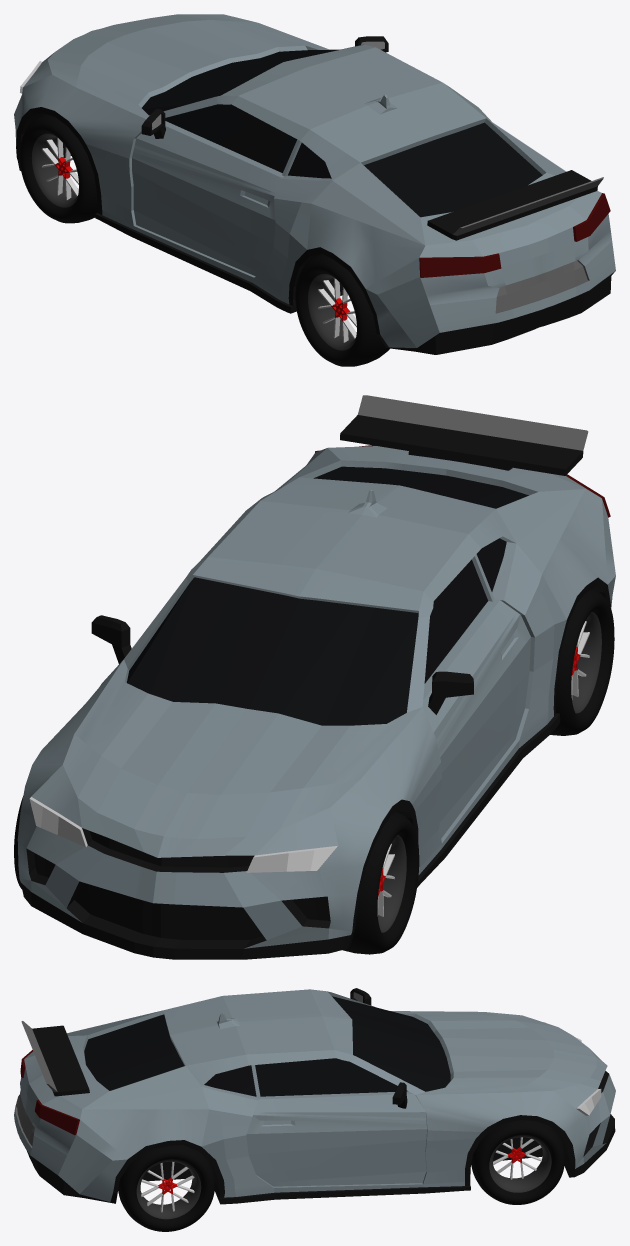
The model's file is PlayerCar.fbx.
The picture shows the model from 3 angles, top to bottom: view 1: azimuth 30°, elevation 25°; view 2: azimuth 150°, elevation 25°; view 3: azimuth 270°, elevation 25°; orthographic projection. The views are drawn at different scales.
Visible parts, largest first — view 1: polySurface59, polySurface43, polySurface65, Back, Tier_2, Tier, polySurface45, polySurface49, pPipe4_2, pPipe4, pCube871_2, pCube871 (+1 smaller); view 2: polySurface59, polySurface43, polySurface65, Back, Tier, Tier_2, polySurface41, pPipe4_2, pPipe4, Right_Side_Mirror, Left_Side_Mirror; view 3: polySurface59, polySurface43, polySurface65, Tier_3, Tier_1, Back, pPipe4_1, pPipe4_3, pCube871_3, polySurface49, pCube871_1, polySurface45 (+1 smaller).
Boxes of the visible parts, x1,y1,x2,y2 form: polySurface59: [14, 14, 615, 347]; polySurface43: [142, 49, 542, 217]; polySurface65: [16, 107, 615, 354]; Back: [427, 170, 603, 240]; Tier_2: [295, 253, 389, 366]; Tier: [19, 114, 97, 223]; polySurface45: [495, 260, 589, 313]; polySurface49: [419, 193, 610, 277]; pPipe4_2: [308, 274, 355, 350]; pPipe4: [31, 133, 77, 207]; pCube871_2: [318, 278, 356, 342]; pCube871: [41, 137, 78, 200]; polySurface59: [17, 446, 615, 948]; polySurface43: [127, 466, 528, 725]; polySurface65: [20, 577, 610, 959]; Back: [340, 395, 588, 475]; Tier: [342, 811, 419, 954]; Tier_2: [550, 589, 614, 735]; polySurface41: [29, 797, 337, 872]; pPipe4_2: [572, 612, 601, 713]; pPipe4: [378, 835, 406, 932]; Right_Side_Mirror: [428, 671, 473, 714]; Left_Side_Mirror: [91, 615, 131, 663]; polySurface59: [14, 989, 615, 1201]; polySurface43: [84, 996, 450, 1096]; polySurface65: [27, 1071, 615, 1204]; Tier_3: [118, 1145, 215, 1231]; Tier_1: [471, 1120, 565, 1204]; Back: [21, 1021, 89, 1096]; pPipe4_1: [489, 1135, 551, 1192]; pPipe4_3: [136, 1159, 201, 1219]; pCube871_3: [141, 1161, 194, 1212]; polySurface49: [20, 1050, 79, 1135]; pCube871_1: [493, 1137, 541, 1179]; polySurface45: [15, 1094, 34, 1147].
Size of the model in its own units: 193 by 112 by 367.
